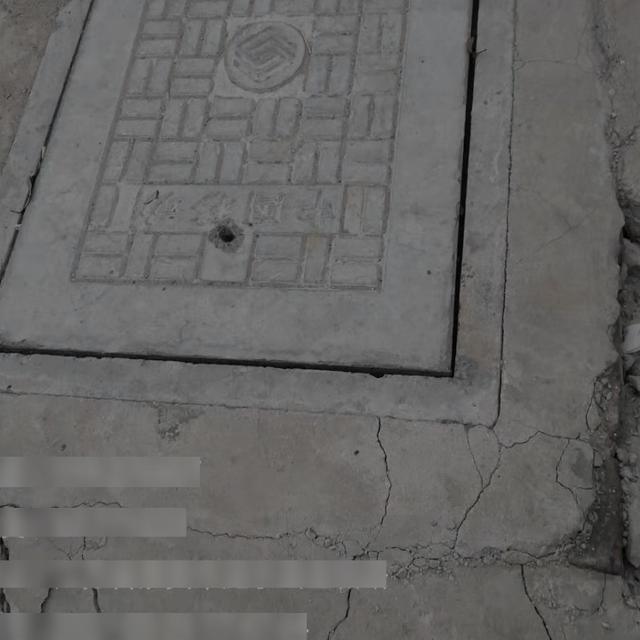good: (0, 0, 520, 424)
